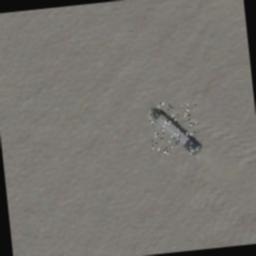boat: (146, 99, 202, 158)
